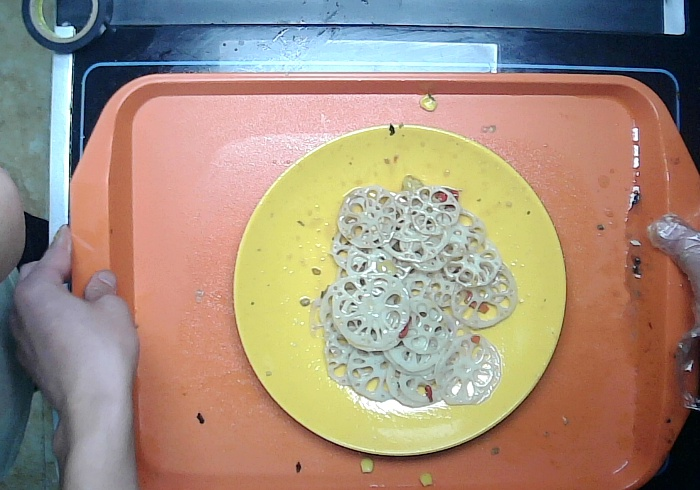HZYJPL-Huang_Se_Yuan_Pan: (224, 111, 573, 462)
